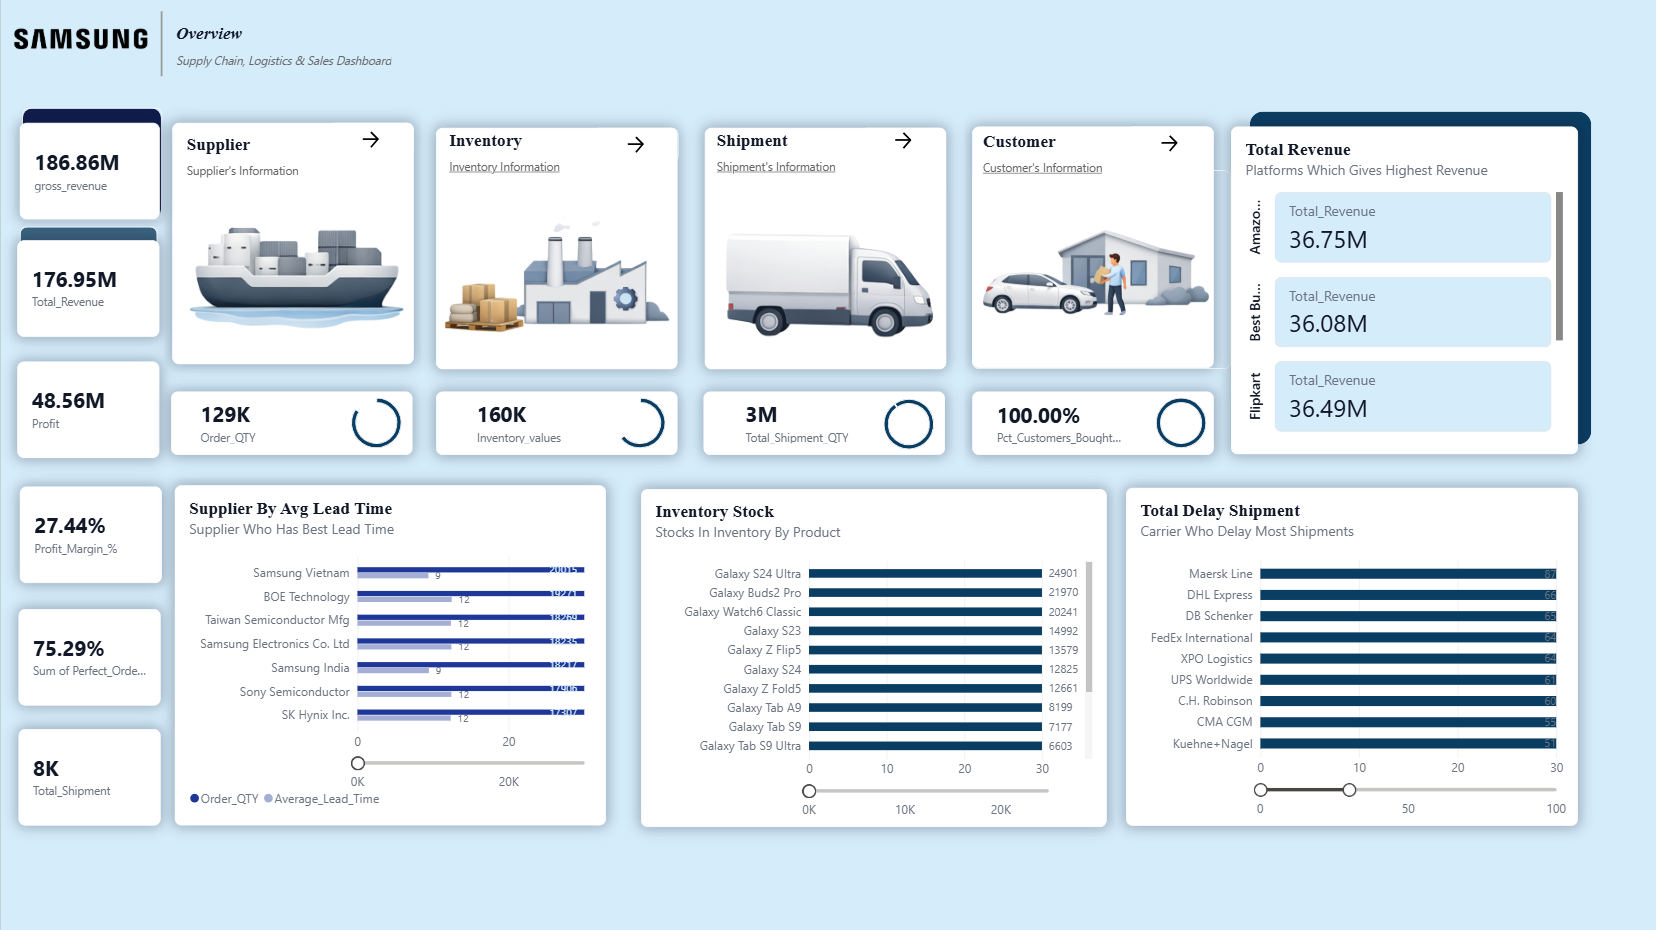

Layout of this report page (visuals, bound fields, positions):
{"tool":"powerbi","page":{"name":"Samsung Dashboard","canvas":[1920,1080],"ordinal":0},"visuals":[{"type":"shape","box":[1448,130,396,386],"z":0},{"type":"shape","box":[24,126,162,130],"z":1000},{"type":"shape","box":[22,264,160,100],"z":2000},{"type":"shape","box":[198,144,280,280],"z":3000},{"type":"shape","box":[504.9,149,280,280],"z":4000},{"type":"shape","box":[815.3,149,280,280],"z":5000},{"type":"shape","box":[1125.7,147.7,280,280],"z":6000},{"type":"image","box":[191.7,200,290,218.6],"z":7000},{"type":"image","box":[485.4,199.4,300,230],"z":8000},{"type":"image","box":[816.8,215.1,278.6,214.3],"z":9000},{"type":"image","box":[1125.4,198.1,300,230],"z":10000},{"type":"actionButton","box":[378,144.1,100,40],"z":11000},{"type":"actionButton","box":[685.4,149.4,100,40],"z":12000},{"type":"actionButton","box":[995.4,149.4,100,30],"z":13000},{"type":"actionButton","box":[1304.9,148.1,100,40],"z":14000},{"type":"shape","title":"Supplier","box":[214.6,156.2,166.7,61.7],"z":15000},{"type":"shape","title":"Inventory","box":[518.3,152.8,166.7,61.7],"z":16000},{"type":"shape","title":"Shipment","box":[828.3,152.8,166.7,61.7],"z":17000},{"type":"shape","title":"Customer","box":[1138.3,153.1,166.7,61.7],"z":18000},{"type":"shape","title":"Overview","box":[202.7,28.3,263.3,61.7],"z":19000},{"type":"shape","box":[76.1,15,221.7,75],"z":20000},{"type":"image","box":[3.5,1.7,171.7,88.3],"z":21000},{"type":"cardVisual","fields":{"Data":["measuresTable.Total_Revenue"]},"box":[18.7,280.3,165,111.7],"z":22000},{"type":"cardVisual","fields":{"Data":["measuresTable.Profit"]},"box":[19.6,420.3,165,111.7],"z":23000},{"type":"cardVisual","fields":{"Data":["measuresTable.Total_Shipment"]},"box":[20.4,846.9,165,111.7],"z":24000},{"type":"cardVisual","fields":{"Data":["Sum(measuresTable.Perfect_Order %)"]},"box":[20.4,706.9,165,111.7],"z":25000},{"type":"cardVisual","fields":{"Data":["measuresTable.Profit_Margin_%"]},"box":[21.2,565.3,165,111.7],"z":26000},{"type":"textbox","box":[188,455.5,290,219],"z":27000},{"type":"cardVisual","fields":{"Data":["Sum(fact_sales.gross_revenue)"]},"box":[22,144,162,112],"z":28000},{"type":"shape","box":[196.9,454.6,279.8,73.6],"z":29000},{"type":"shape","box":[505,455,279.8,73.6],"z":30000},{"type":"shape","box":[815,455,279.8,73.6],"z":31000},{"type":"shape","box":[1126.7,455,279.8,73.6],"z":32000},{"type":"cardVisual","fields":{"Data":["measuresTable.Order_QTY"]},"box":[215,466.7,165,50],"z":33000},{"type":"cardVisual","fields":{"Data":["measuresTable.Inventory_values"]},"box":[535,466.7,165,50],"z":34000},{"type":"cardVisual","fields":{"Data":["Measure.Total_Shipment_QTY"]},"box":[846.7,466.7,165,50],"z":35000},{"type":"cardVisual","fields":{"Data":["Measure.Pct_Customers_Bought"]},"box":[1137.4,467.5,178.5,49.7],"z":36000},{"type":"clusteredBarChart","title":"Supplier By Avg Lead Time","fields":{"Category":["dim_supplier.supplier_name"],"Y":["Measure.Order_QTY","Measure.Average_Lead_Time"]},"box":[202,564,500,394],"z":37000},{"type":"barChart","title":"Inventory Stock","fields":{"Category":["dim_product.product_name"],"Y":["Measure.Inventory_values"]},"box":[741.7,568.8,540,392],"z":38000},{"type":"clusteredBarChart","title":"Total Delay Shipment","fields":{"Category":["fact_shipment.carrier"],"Y":["Measure.Total_Delay"]},"box":[1304,566,524,392],"z":39000},{"type":"cardVisual","title":"Total Revenue","fields":{"Data":["Measure.Total_Revenue"],"Rows":["dim_customer.customer_name"]},"box":[1426,148,402,380],"z":40000},{"type":"donutChart","fields":{"Y":["Measure.Order_QTY","Measure.Total_Defect"]},"box":[338.3,440,195,103],"z":41000},{"type":"donutChart","fields":{"Y":["Measure.Inventory_values","Measure.Safty_Stocks"]},"box":[643.3,440,195,103],"z":42000},{"type":"donutChart","fields":{"Y":["Measure.Total_Shipment_QTY","Measure.Total_Delay"]},"box":[955,441.7,195,103],"z":43000},{"type":"donutChart","fields":{"Y":["Measure.Pct_Customers_Bought"]},"box":[1265,440,195,103],"z":44000}]}

Visuals, with their boxes in screenshot pixels (x1, y1, x2, y2), scaled from the page's 1920x1080 canvas onto the 1656x930 screenshot:
shape: (1249,112,1590,444)
shape: (21,108,160,220)
shape: (19,227,157,313)
shape: (171,124,412,365)
shape: (435,128,677,369)
shape: (703,128,945,369)
shape: (971,127,1212,368)
image: (165,172,415,360)
image: (419,172,677,370)
image: (704,185,945,370)
image: (971,171,1229,369)
actionButton: (326,124,412,159)
actionButton: (591,129,677,163)
actionButton: (859,129,945,154)
actionButton: (1125,128,1212,162)
"Supplier" shape: (185,135,329,188)
"Inventory" shape: (447,132,591,185)
"Shipment" shape: (714,132,858,185)
"Customer" shape: (982,132,1126,185)
"Overview" shape: (175,24,402,78)
shape: (66,13,257,78)
image: (3,1,151,78)
cardVisual - measuresTable.Total_Revenue: (16,241,158,338)
cardVisual - measuresTable.Profit: (17,362,159,458)
cardVisual - measuresTable.Total_Shipment: (18,729,160,825)
cardVisual - Sum(measuresTable.Perfect_Order %): (18,609,160,705)
cardVisual - measuresTable.Profit_Margin_%: (18,487,161,583)
textbox: (162,392,412,581)
cardVisual - Sum(fact_sales.gross_revenue): (19,124,159,220)
shape: (170,391,411,455)
shape: (436,392,677,455)
shape: (703,392,944,455)
shape: (972,392,1213,455)
cardVisual - measuresTable.Order_QTY: (185,402,328,445)
cardVisual - measuresTable.Inventory_values: (461,402,604,445)
cardVisual - Measure.Total_Shipment_QTY: (730,402,873,445)
cardVisual - Measure.Pct_Customers_Bought: (981,403,1135,445)
"Supplier By Avg Lead Time" clusteredBarChart: (174,486,605,825)
"Inventory Stock" barChart: (640,490,1105,827)
"Total Delay Shipment" clusteredBarChart: (1125,487,1577,825)
"Total Revenue" cardVisual: (1230,127,1577,455)
donutChart - Measure.Order_QTY x Measure.Total_Defect: (292,379,460,468)
donutChart - Measure.Inventory_values x Measure.Safty_Stocks: (555,379,723,468)
donutChart - Measure.Total_Shipment_QTY x Measure.Total_Delay: (824,380,992,469)
donutChart - Measure.Pct_Customers_Bought: (1091,379,1259,468)
